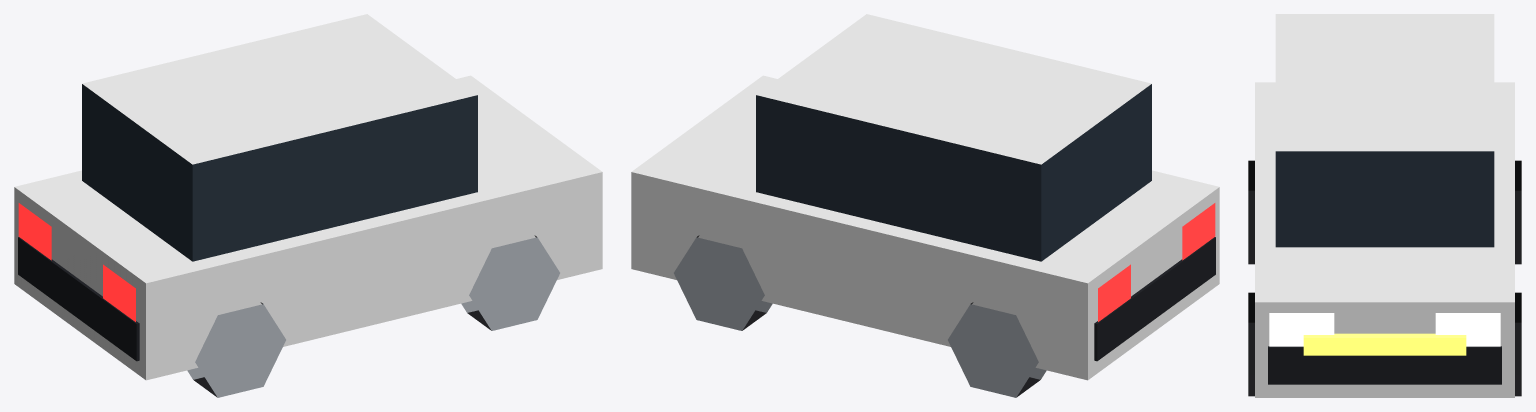
File: car_electric.glb
3 views of the same model, side by side, from view 1: azimuth 30°, elevation 25°; view 2: azimuth 150°, elevation 25°; view 3: azimuth 270°, elevation 25° (orthographic).
Visible parts, largest first — view 1: car_electric; view 2: car_electric; view 3: car_electric.
Boxes of the visible parts, x1,y1,x2,y2 form: car_electric: [14, 14, 602, 397]; car_electric: [631, 14, 1219, 397]; car_electric: [1248, 14, 1521, 397].
Size of the model in its own units: 0.328 by 0.1513 by 0.168.
